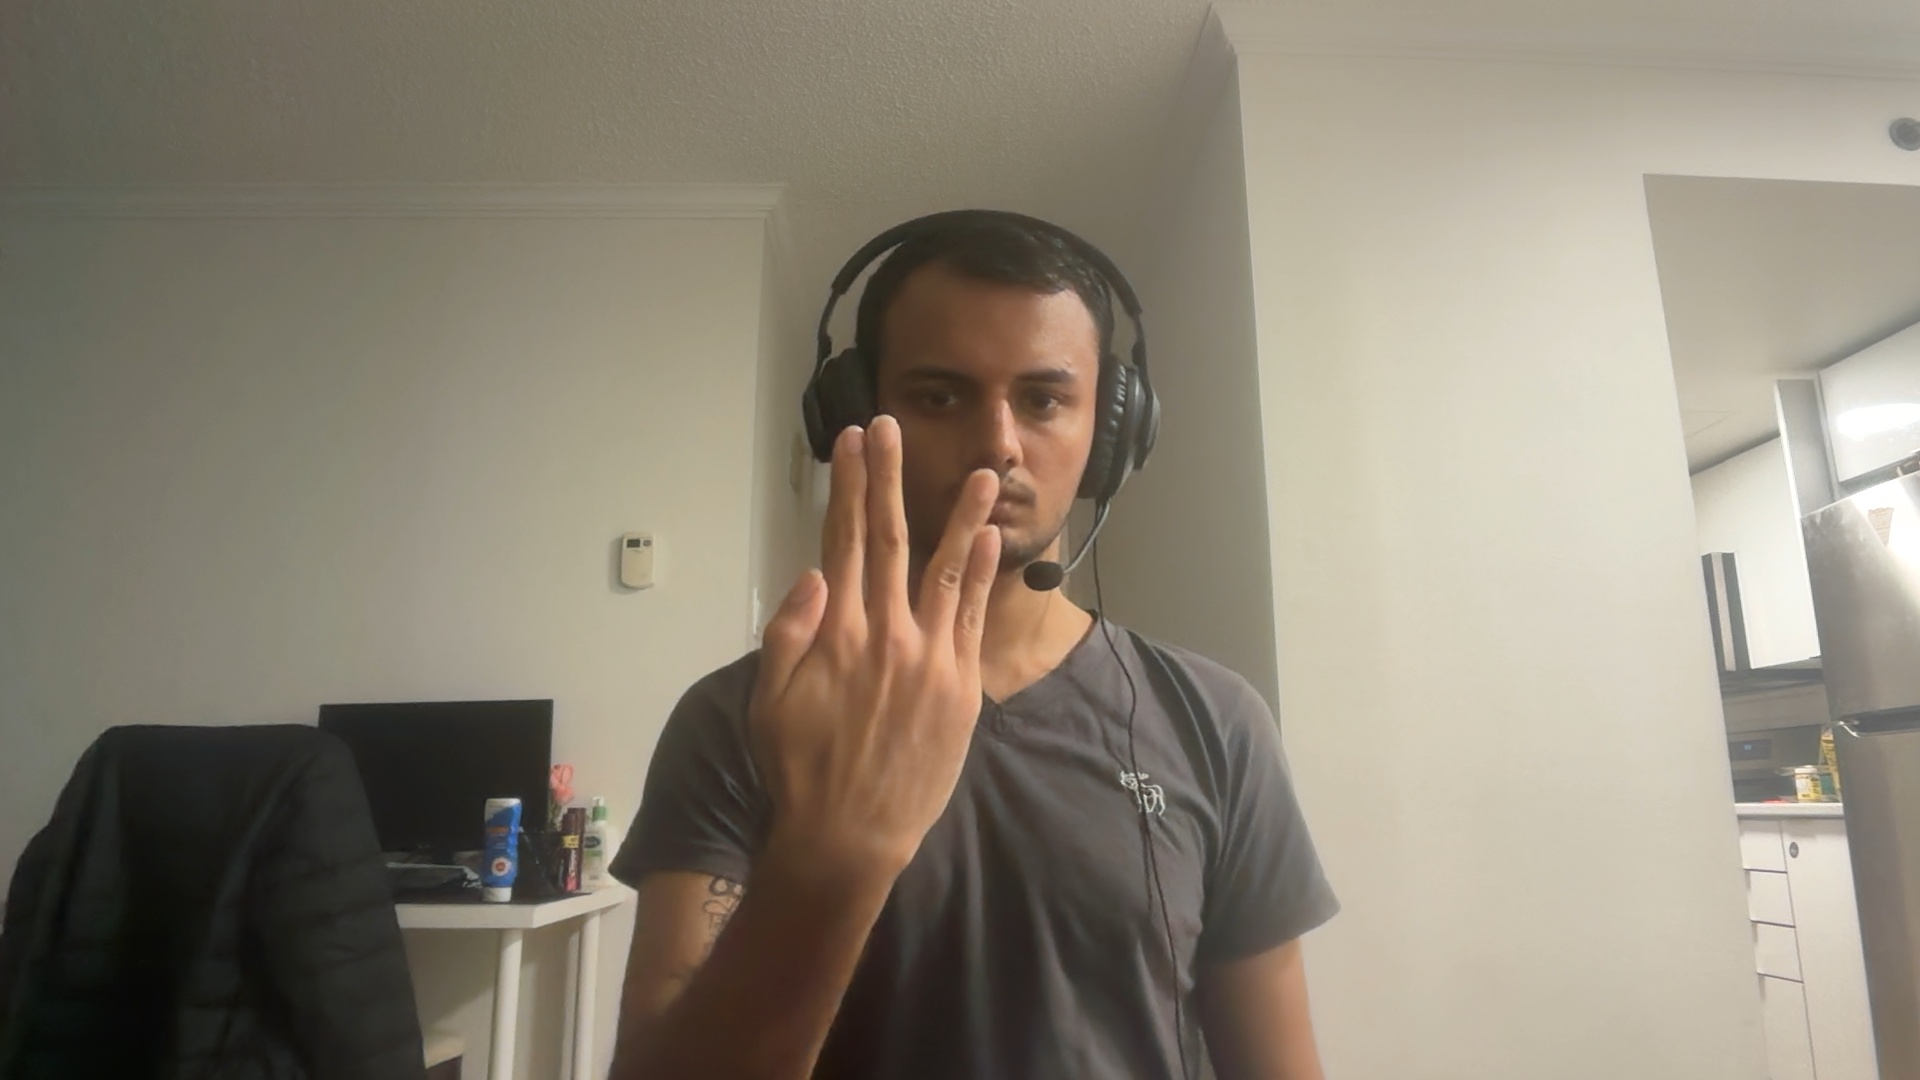livelong: (746, 414, 1000, 862)
